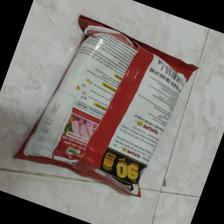Kokomi: (14, 14, 199, 198)
